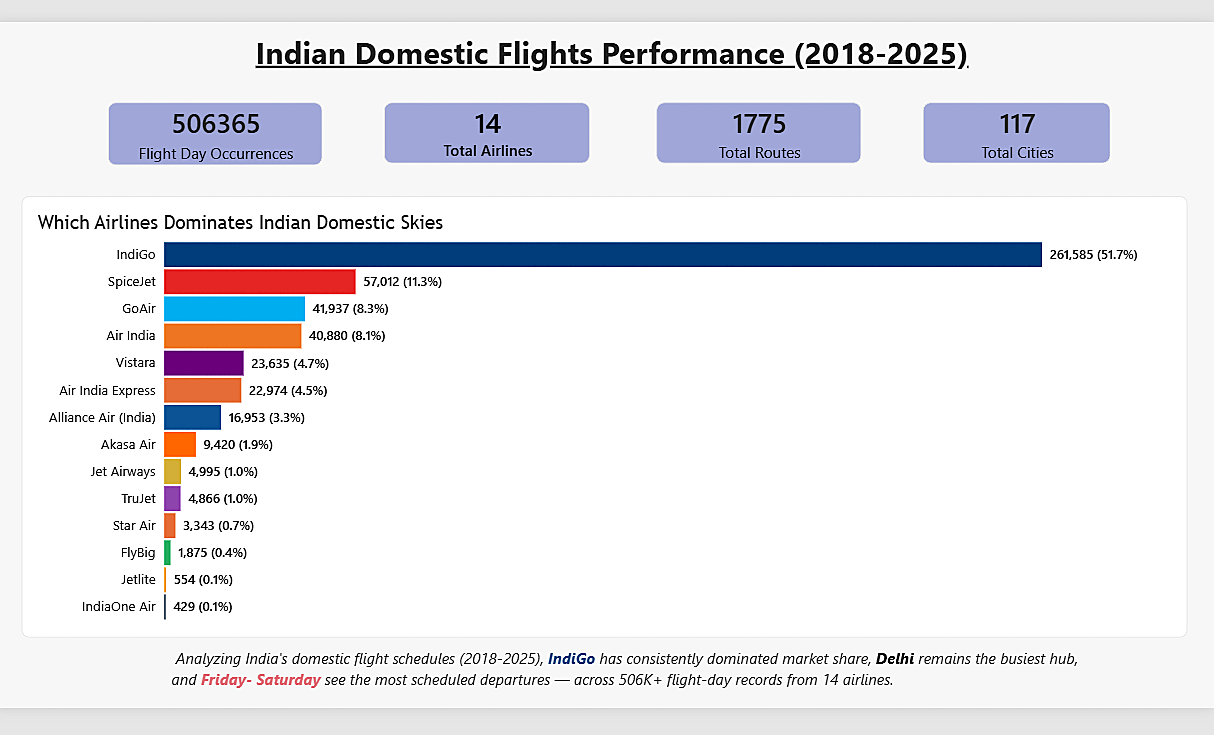

The dashboard page shown, as its layout file describes it:
{"tool":"powerbi","page":{"name":"Flights Analytics","canvas":[1280,720],"ordinal":0},"visuals":[{"type":"textbox","box":[275,10,797.5,52.5],"z":0},{"type":"clusteredBarChart","title":"Which Airlines Dominates Indian Domestic Skies","fields":{"Category":["flights.airline"],"Y":["flights.Flight Day Occurrences"]},"box":[28.6,183.1,1223.5,463.7],"z":1000},{"type":"cardVisual","fields":{"Data":["flights.Flight Day Occurrences"]},"box":[119.5,84.4,225.4,66.7],"z":2000},{"type":"cardVisual","fields":{"Data":["Cities.Total Airlines"]},"box":[409.1,84.4,216.6,64.2],"z":3000},{"type":"cardVisual","fields":{"Data":["Cities.Total Routes"]},"box":[694.9,84.4,215.3,64.2],"z":4000},{"type":"cardVisual","fields":{"Data":["Cities.Total Cities"]},"box":[974.1,84.4,197.7,64.2],"z":5000},{"type":"textbox","box":[186.2,656.2,975,45],"z":7000}]}

Visuals, with their boxes on the page's 1280x720 design canvas (x1, y1, x2, y2). These are canvas units, not pixel positions in the 1214x735 screenshot, which may show the page scaled, cropped or inside an application window:
textbox: (left=275, top=10, right=1072, bottom=62)
"Which Airlines Dominates Indian Domestic Skies" clusteredBarChart: (left=29, top=183, right=1252, bottom=647)
cardVisual - flights.Flight Day Occurrences: (left=120, top=84, right=345, bottom=151)
cardVisual - Cities.Total Airlines: (left=409, top=84, right=626, bottom=149)
cardVisual - Cities.Total Routes: (left=695, top=84, right=910, bottom=149)
cardVisual - Cities.Total Cities: (left=974, top=84, right=1172, bottom=149)
textbox: (left=186, top=656, right=1161, bottom=701)
